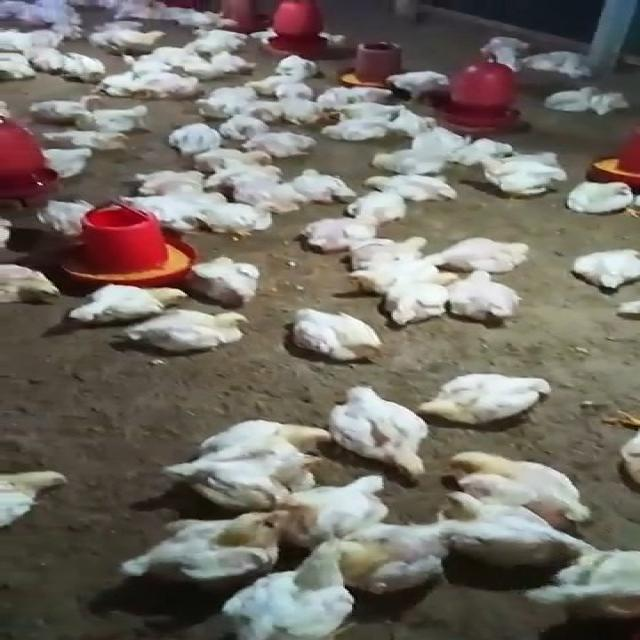sleeping chickens: (294, 383, 454, 479), (416, 481, 594, 566), (107, 512, 305, 582), (222, 545, 364, 640), (162, 446, 334, 512), (421, 368, 574, 425), (254, 302, 373, 374), (276, 299, 395, 368), (60, 274, 186, 329), (0, 464, 94, 534), (281, 304, 386, 366), (121, 308, 254, 352), (422, 238, 554, 277), (186, 252, 275, 304), (358, 163, 472, 203), (563, 241, 640, 298), (290, 211, 381, 254), (570, 168, 637, 220), (46, 124, 133, 156), (289, 165, 357, 201), (165, 120, 223, 156), (274, 49, 318, 82)
